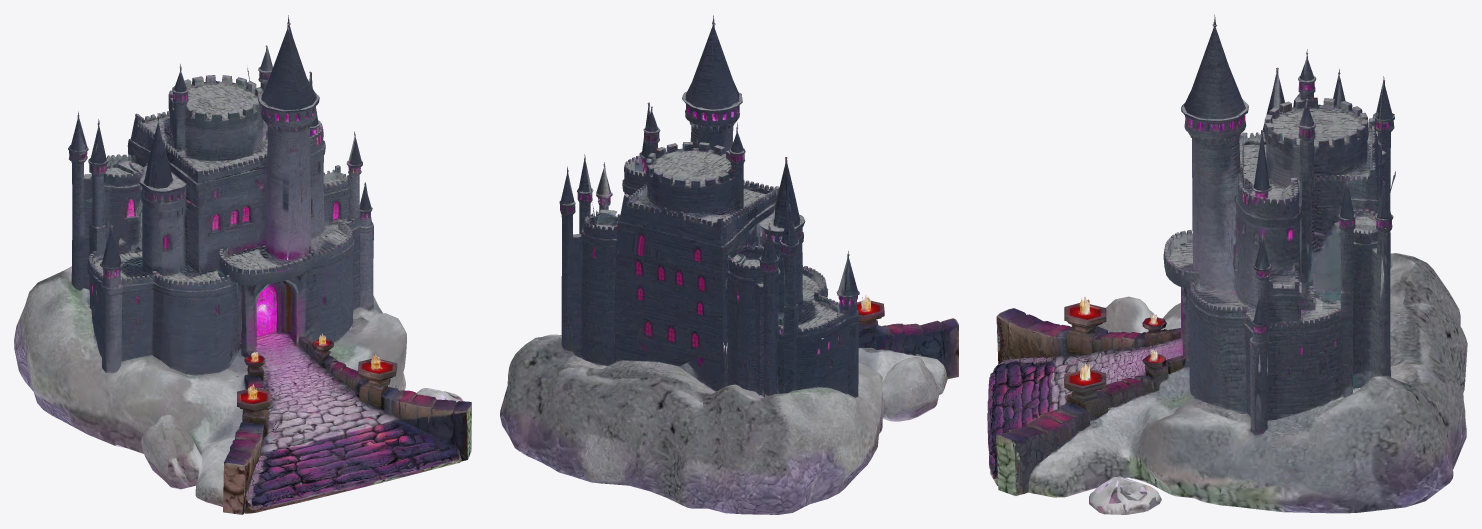
File: castle-siege.glb
3 renders of one model, left to right at view 1: azimuth 30°, elevation 25°; view 2: azimuth 150°, elevation 25°; view 3: azimuth 270°, elevation 25°, orthographic. The views are drawn at different scales.
Parts seen in each view (by area): view 1: Mesh_0; view 2: Mesh_0; view 3: Mesh_0.
Boxes of the visible parts, x1,y1,x2,y2 form: Mesh_0: (14, 15, 471, 514); Mesh_0: (500, 15, 958, 514); Mesh_0: (987, 14, 1467, 514).
Size of the model in its own units: 1.66 by 1.89 by 1.9.
Materials: 1 (1 with a texture image).
